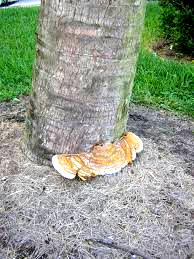Ganoderma - Fruit Body: (52, 132, 145, 182)
